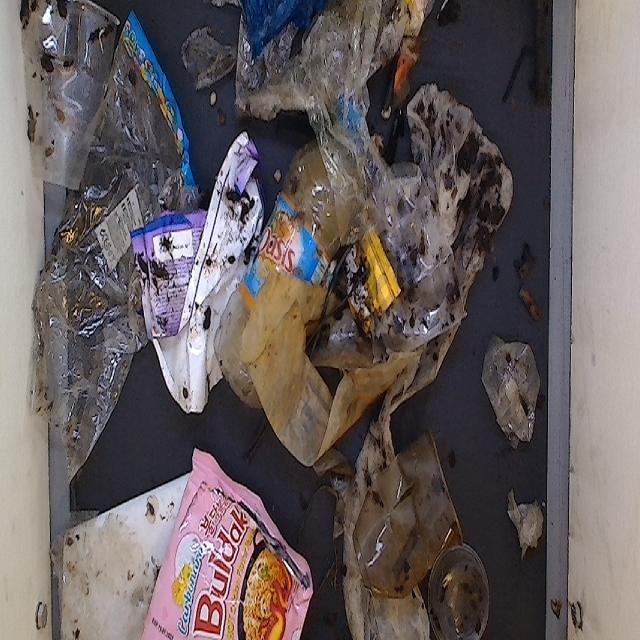food_wrapping: (133, 121, 264, 416), (404, 62, 516, 375), (175, 447, 317, 640)
outside_classes: (36, 480, 202, 640)
pet_bottles: (215, 84, 382, 413)
plastic_cups: (26, 0, 116, 191), (358, 434, 458, 599), (425, 539, 491, 640)
plastic_films: (43, 65, 192, 470), (322, 382, 428, 640), (292, 9, 398, 240), (234, 0, 425, 90), (475, 313, 543, 459), (506, 478, 548, 578), (178, 27, 237, 96)
